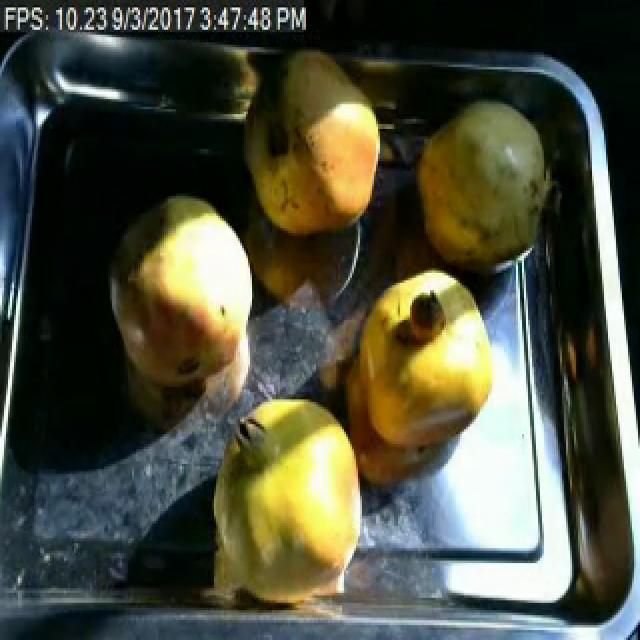fruit: (192, 375, 384, 625), (98, 186, 276, 412), (236, 37, 396, 251), (340, 260, 500, 469), (406, 87, 562, 283)
